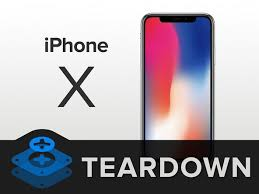iphone: (138, 12, 219, 140)
iphone10: (137, 12, 218, 140)
